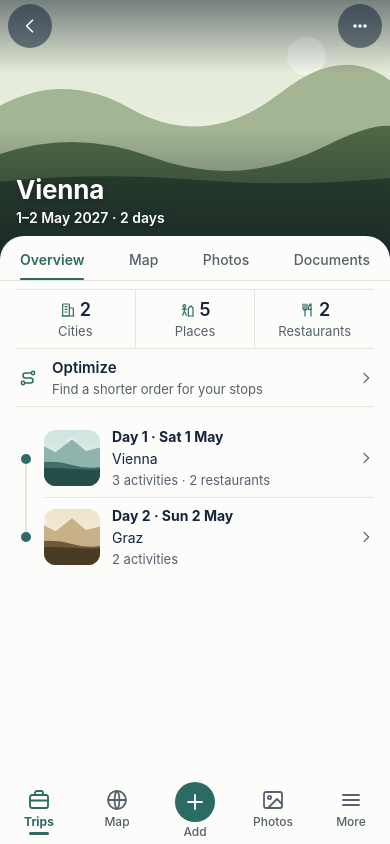
Test: Add on a trip offers a document
This screenshot has width=390, height=844.
Expected: the button with test id "day-row-1" is shown, [16,419,374,498]
Click the button with aria-label "Add to this trip" at (195, 811), box [156,782,234,840]
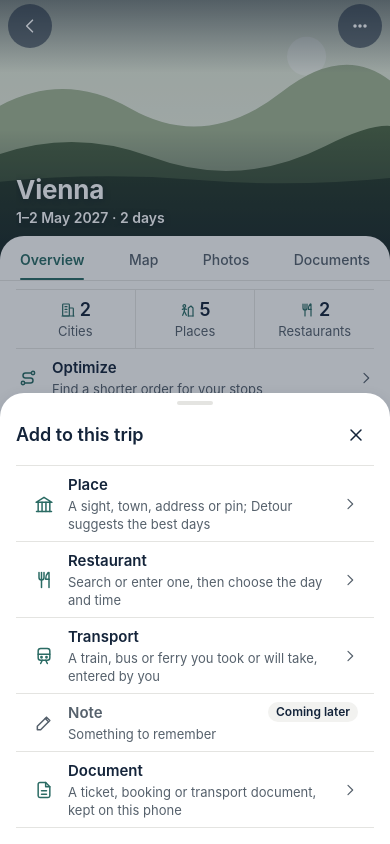
Click the button with test id "add-sheet-document" at (195, 790), box [16,752,374,828]
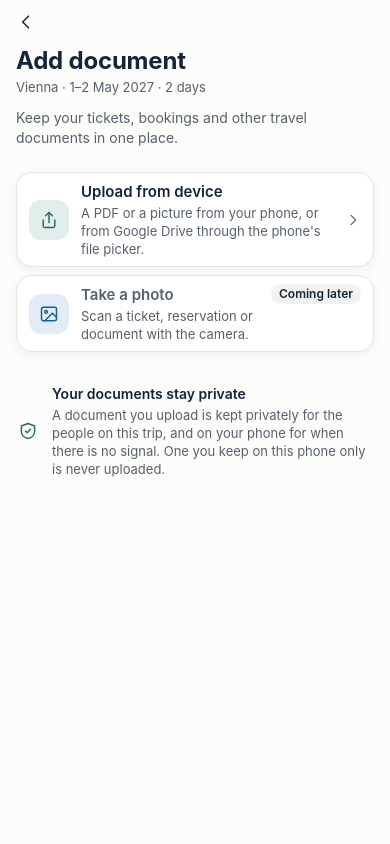
Result: the heading "Add document" is shown at [16,46,186,75]
